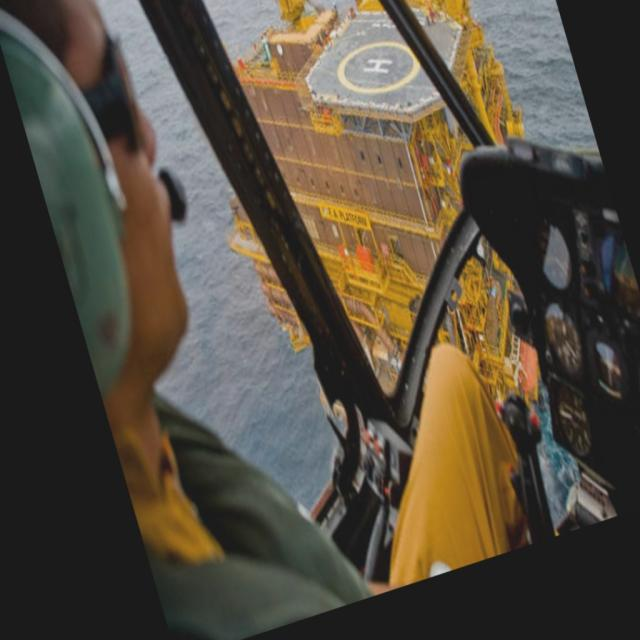helipad: (332, 41, 422, 96)
